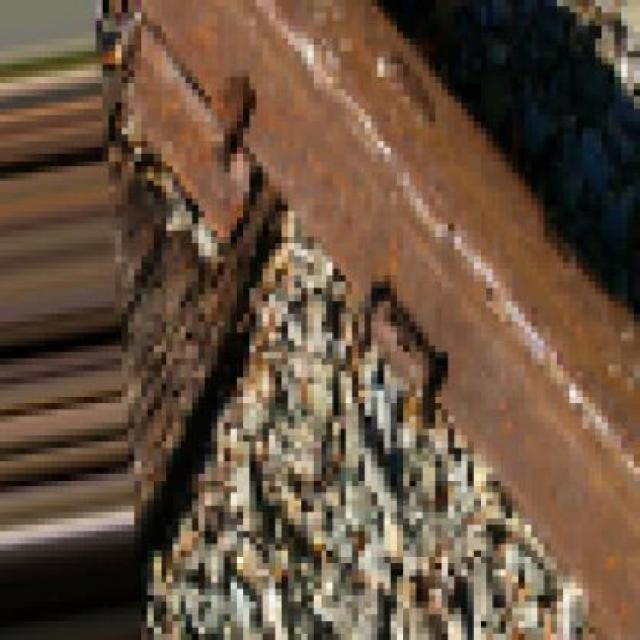defective: (100, 0, 638, 640)
